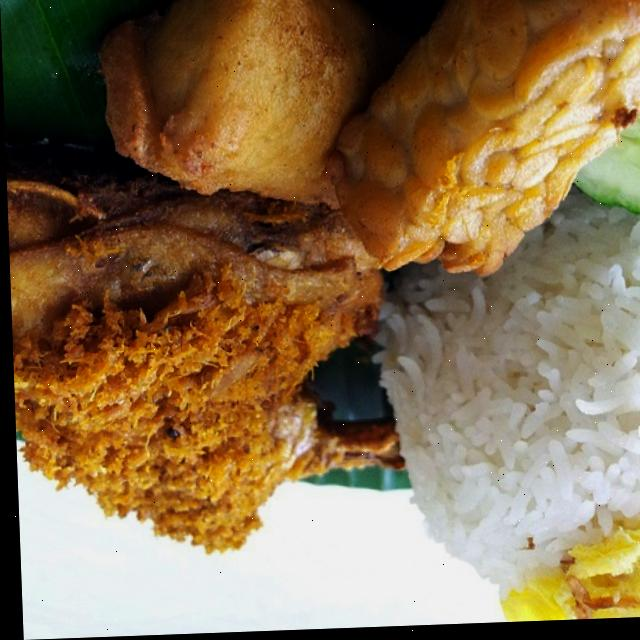米饭主食: (11, 2, 640, 633)
